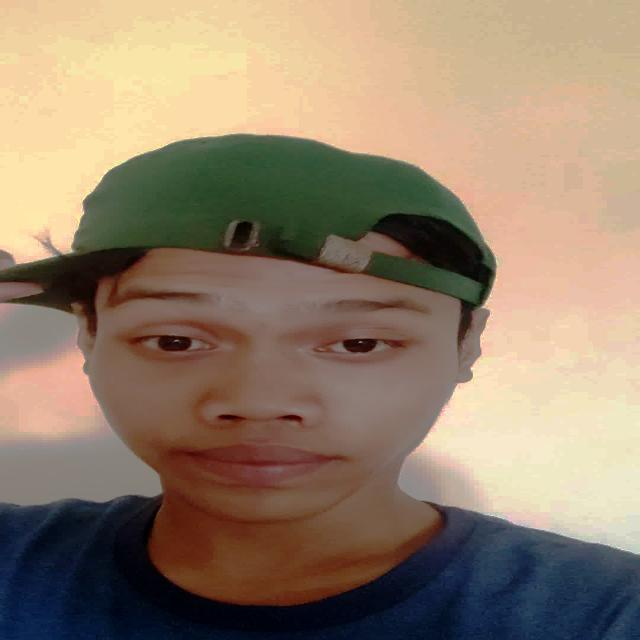TOPI: (4, 127, 518, 317)
